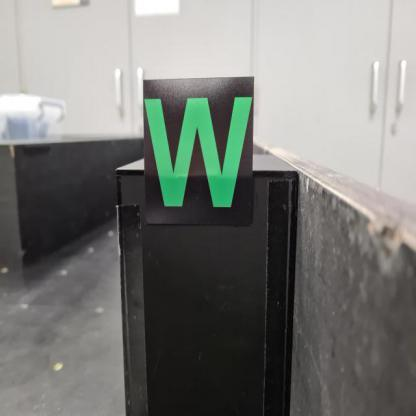w: (142, 78, 256, 227)
